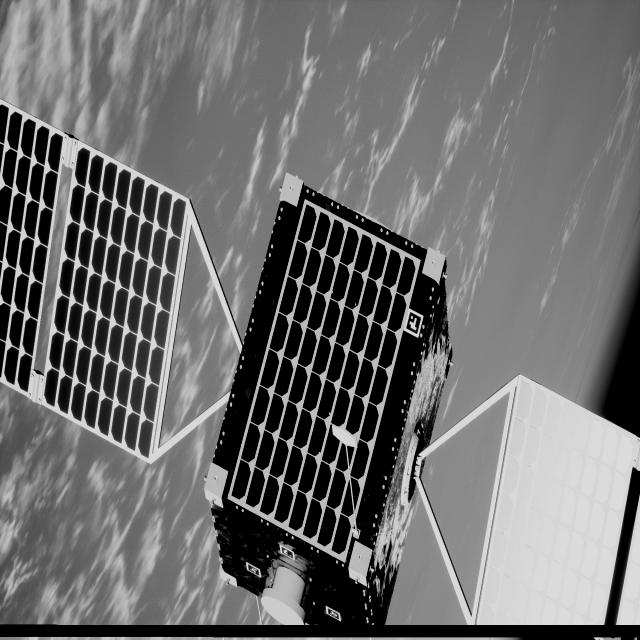satellite: (0, 102, 640, 627)
